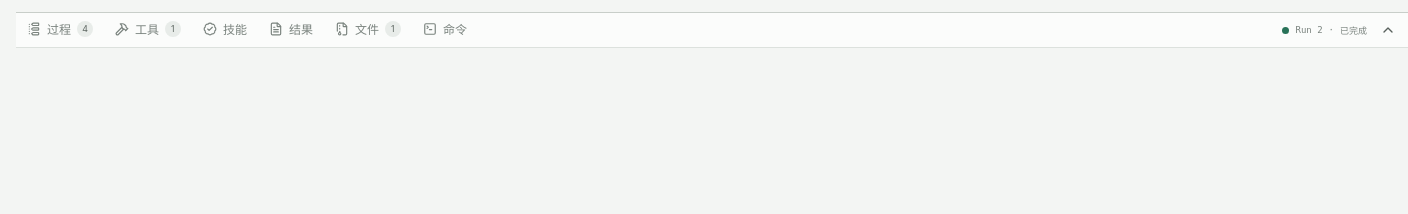
Test case: RunDrawer › opens the canonical ChangeSet and renders persisted artifacts
Click the tab "过程 4": (60, 30) [16,13,104,47]
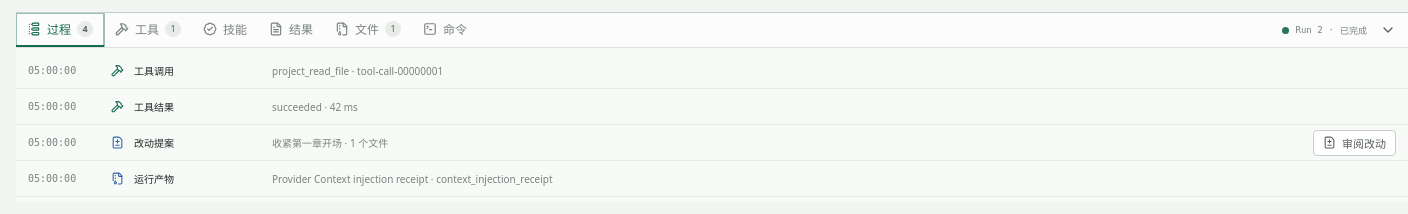
Click the button "审阅改动": (1354, 142) [1313,130,1396,156]
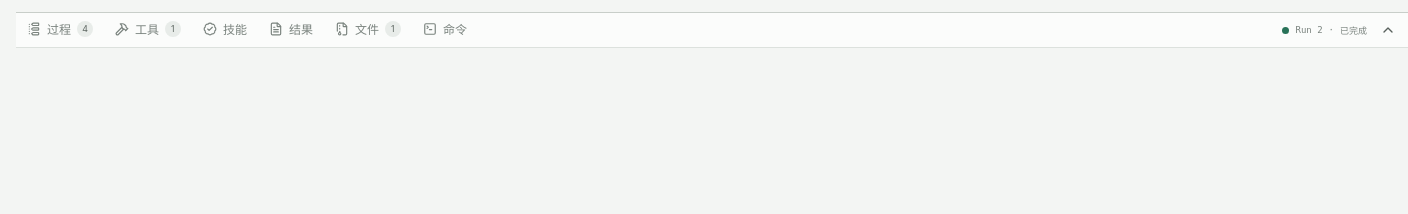
Click the tab "文件 1": (368, 30) [324,13,412,47]
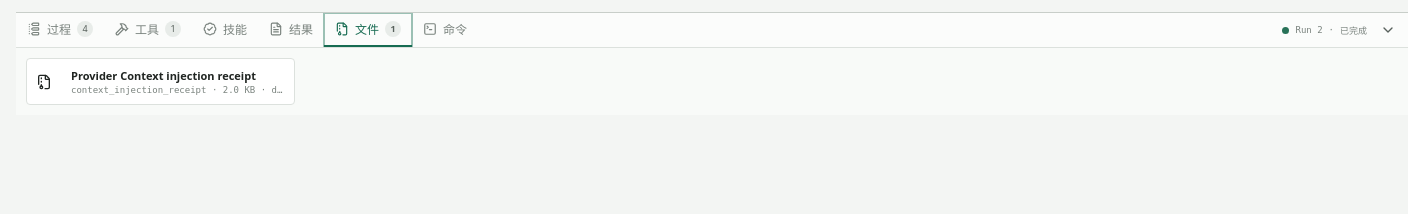
Expected: the text "Provider Context injection receipt" is shown, [71,68,285,83]
Expected: the text "context_injection_receipt" is shown, [71,85,206,95]
Expected: the text "2.0 KB" is shown, [223,85,255,95]
